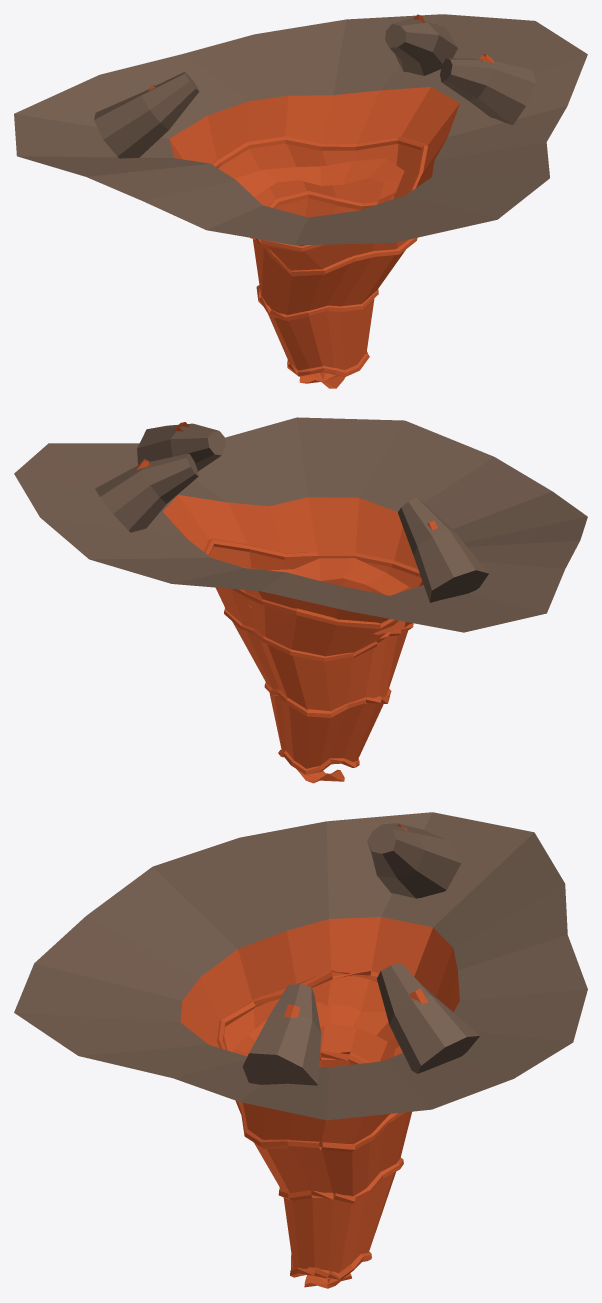
File: landmark_rift_eye_a.glb
3 renders of one model, top to bottom at view 1: azimuth 30°, elevation 25°; view 2: azimuth 150°, elevation 25°; view 3: azimuth 270°, elevation 25°, orthographic. The views are drawn at different scales.
Parts seen in each view (by area): view 1: landmark_rift_eye_a_lod0; view 2: landmark_rift_eye_a_lod0; view 3: landmark_rift_eye_a_lod0.
Part boxes in pixels (x1=…): landmark_rift_eye_a_lod0: x1=14, y1=14, x2=587, y2=388; landmark_rift_eye_a_lod0: x1=14, y1=417, x2=587, y2=783; landmark_rift_eye_a_lod0: x1=14, y1=812, x2=587, y2=1288.
Size of what is drawn, in the model's own units: 11.77 by 6.84 by 9.09.
